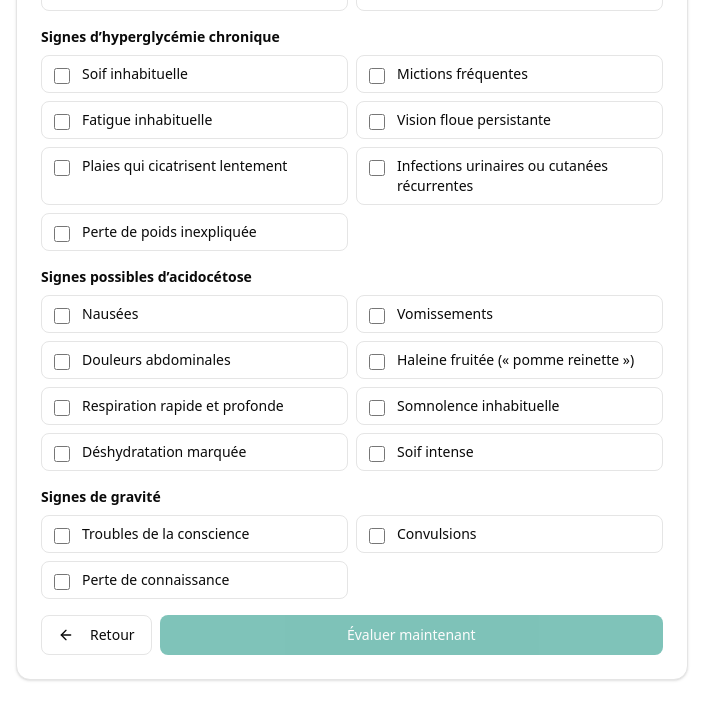
<SymptomsNewPage /> › shows a level3b triage card when a severity sign is checked
(page scrolled)
Click the checkbox labelled "Perte de connaissance" at point(62, 582), box [54,574,70,590]
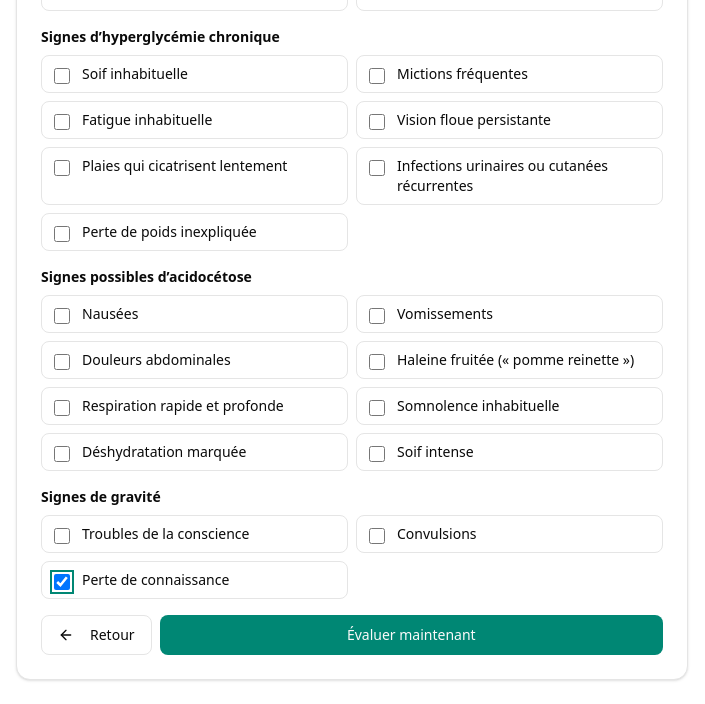
Click the button with test id "triage-evaluate" at point(411, 635), box [160,615,663,655]
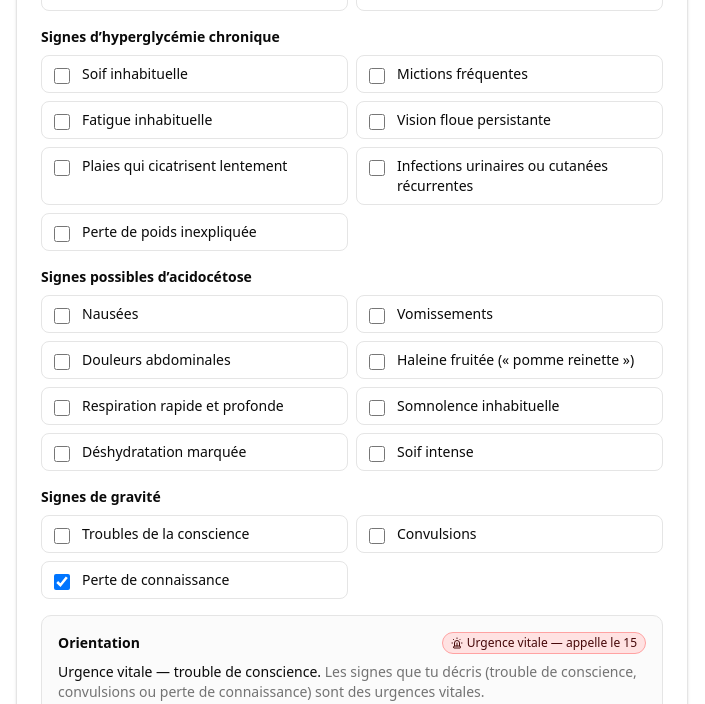
Expected: the text "Urgence vitale — appelle le 15" is shown, [442,632,646,654]
